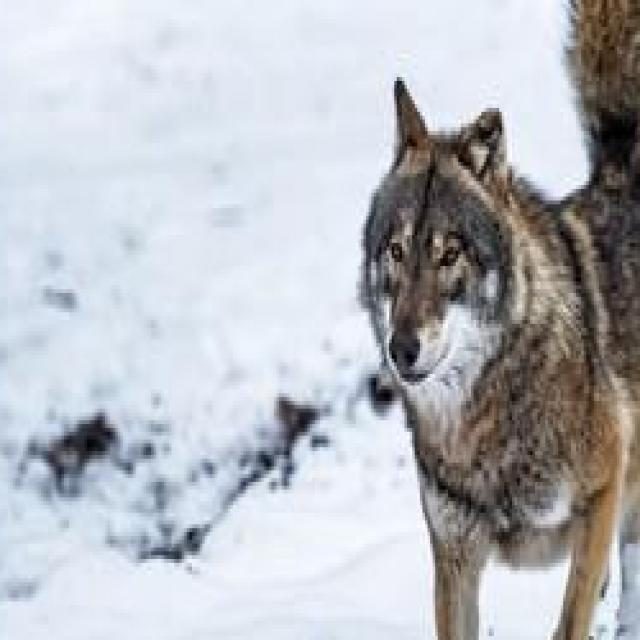wolf: (340, 0, 640, 640)
